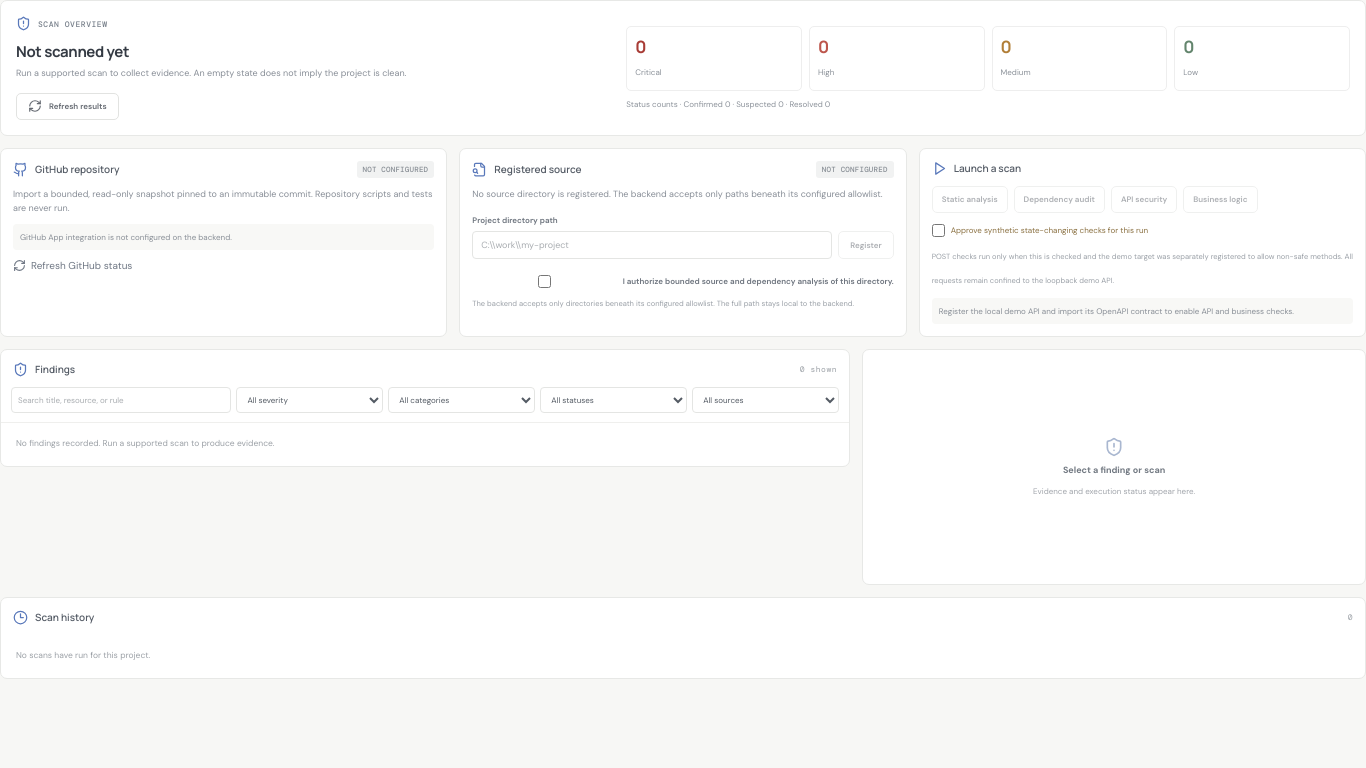
Test case: Security Center › shows a truthful not-scanned empty state and disables unavailable scan controls
This screenshot has width=1366, height=768.
Expected: the heading "Not scanned yet" is shown, x1=16 y1=41 x2=129 y2=62
Expected: the text "No findings recorded. Run a supported scan to produce evidence." is shown, x1=16 y1=438 x2=274 y2=449
In the field labelled "Project directory path": [652, 245] box x1=472 y1=231 x2=832 y2=259, type "C:\\work\\project"
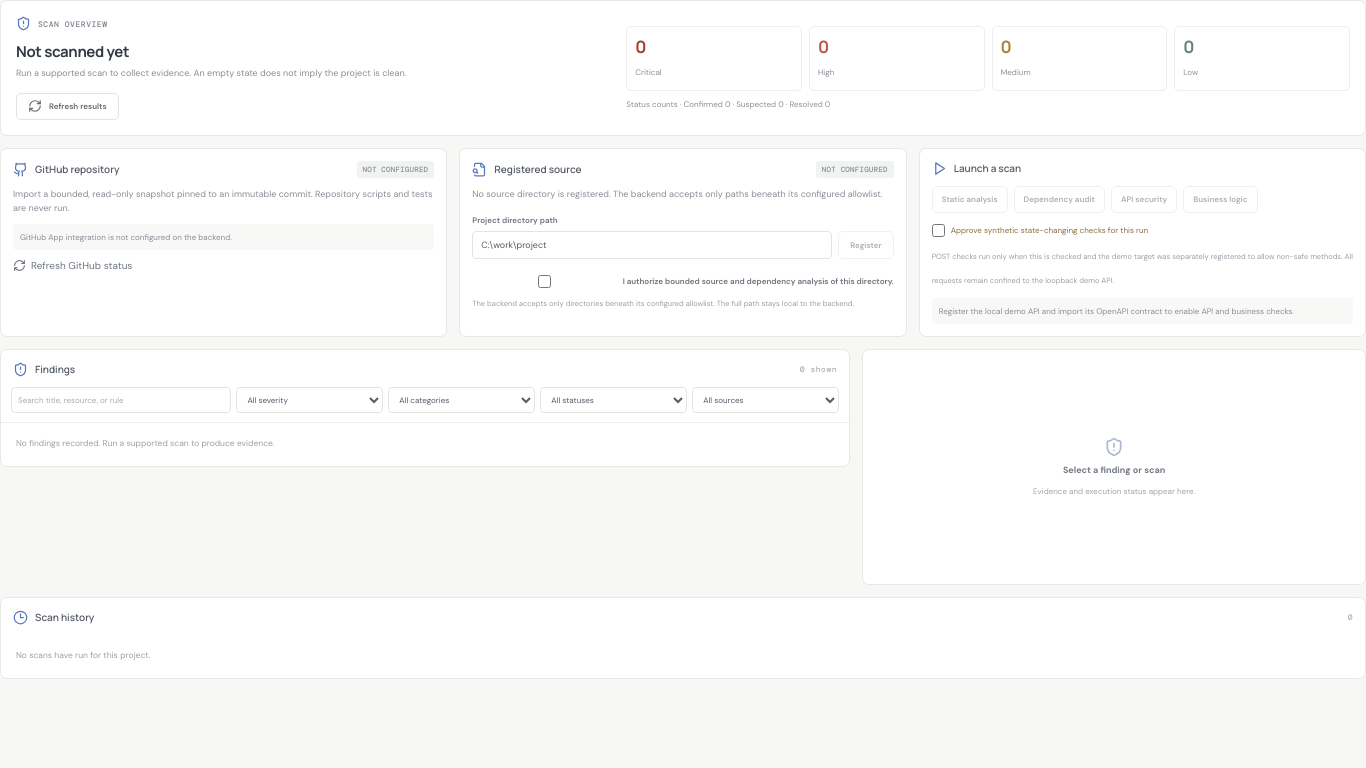
Expected: the button "Register" is disabled, x1=838 y1=231 x2=894 y2=259
Click the checkbox labelled "I authorize bounded source": [544, 281] box x1=472 y1=275 x2=617 y2=288
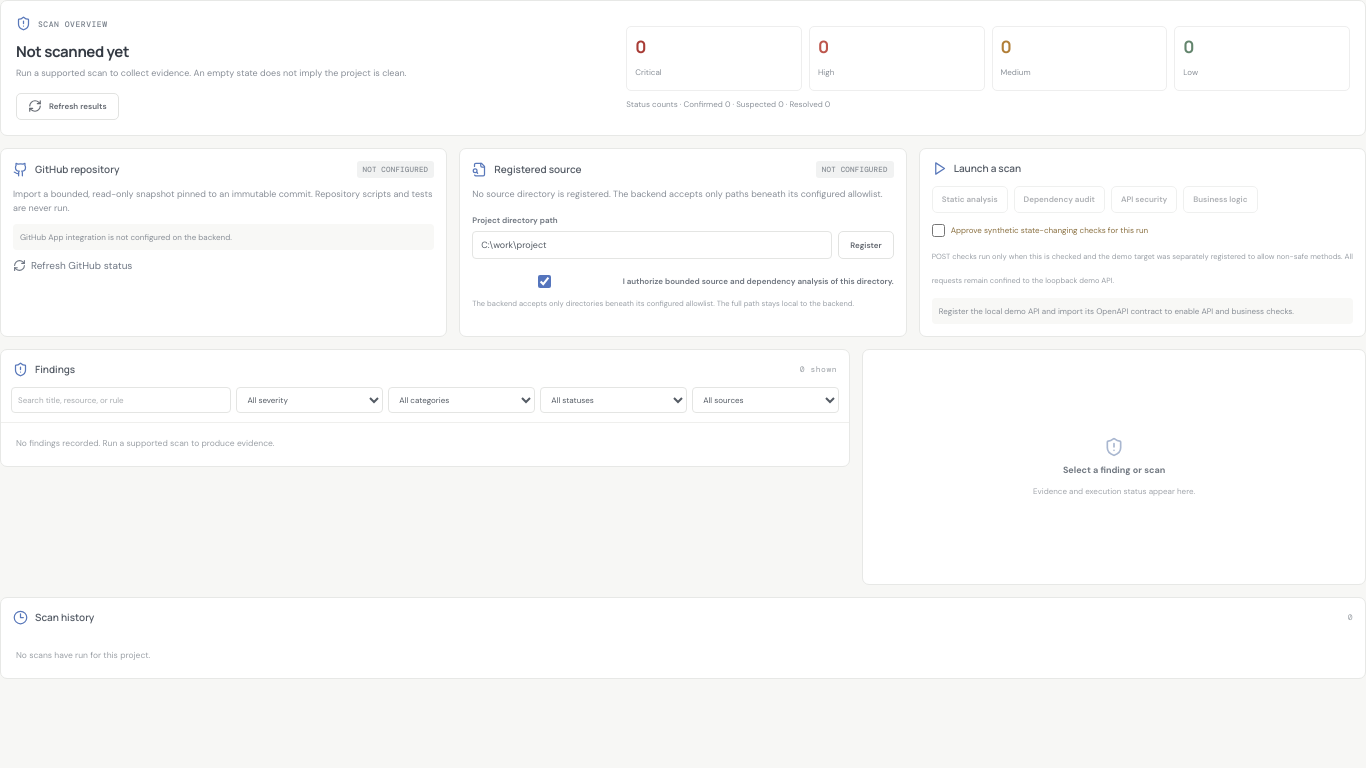
Expected: the element named "Finding counts" shows "0", x1=635 y1=35 x2=646 y2=58
Expected: the button "Register" is enabled, x1=838 y1=231 x2=894 y2=259
